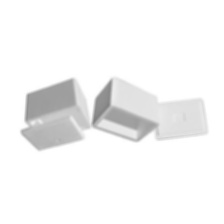foam_box: (18, 75, 91, 155), (92, 74, 162, 145), (149, 94, 211, 144)
